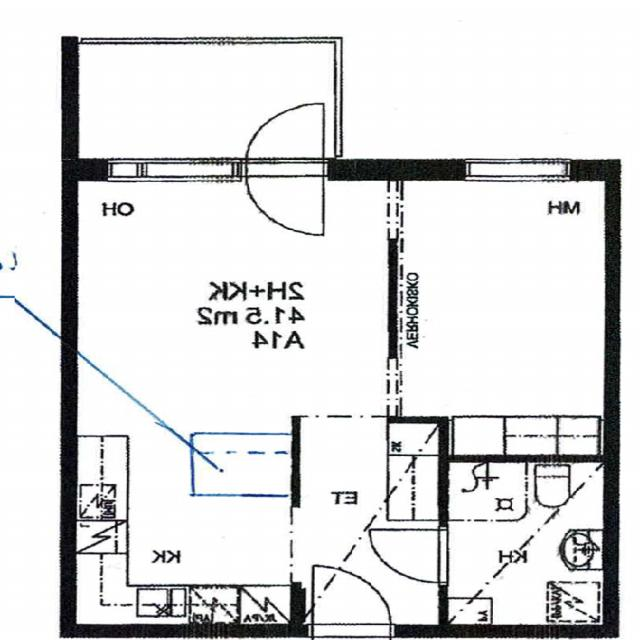door: (312, 565, 391, 637), (246, 162, 322, 234), (246, 105, 322, 177), (369, 530, 448, 582), (312, 624, 391, 640)
